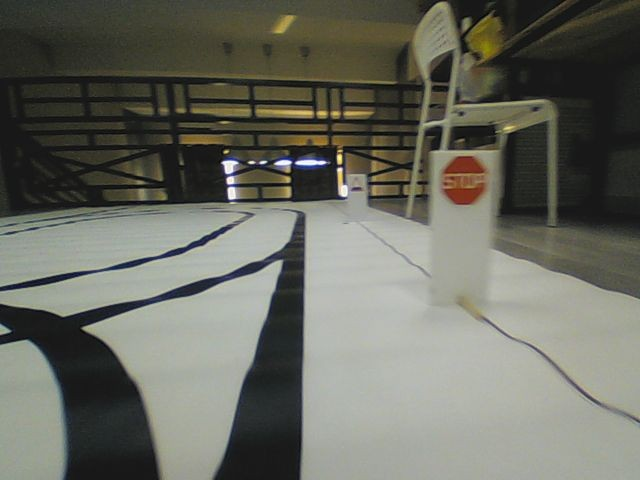Stop: (439, 153, 486, 205)
